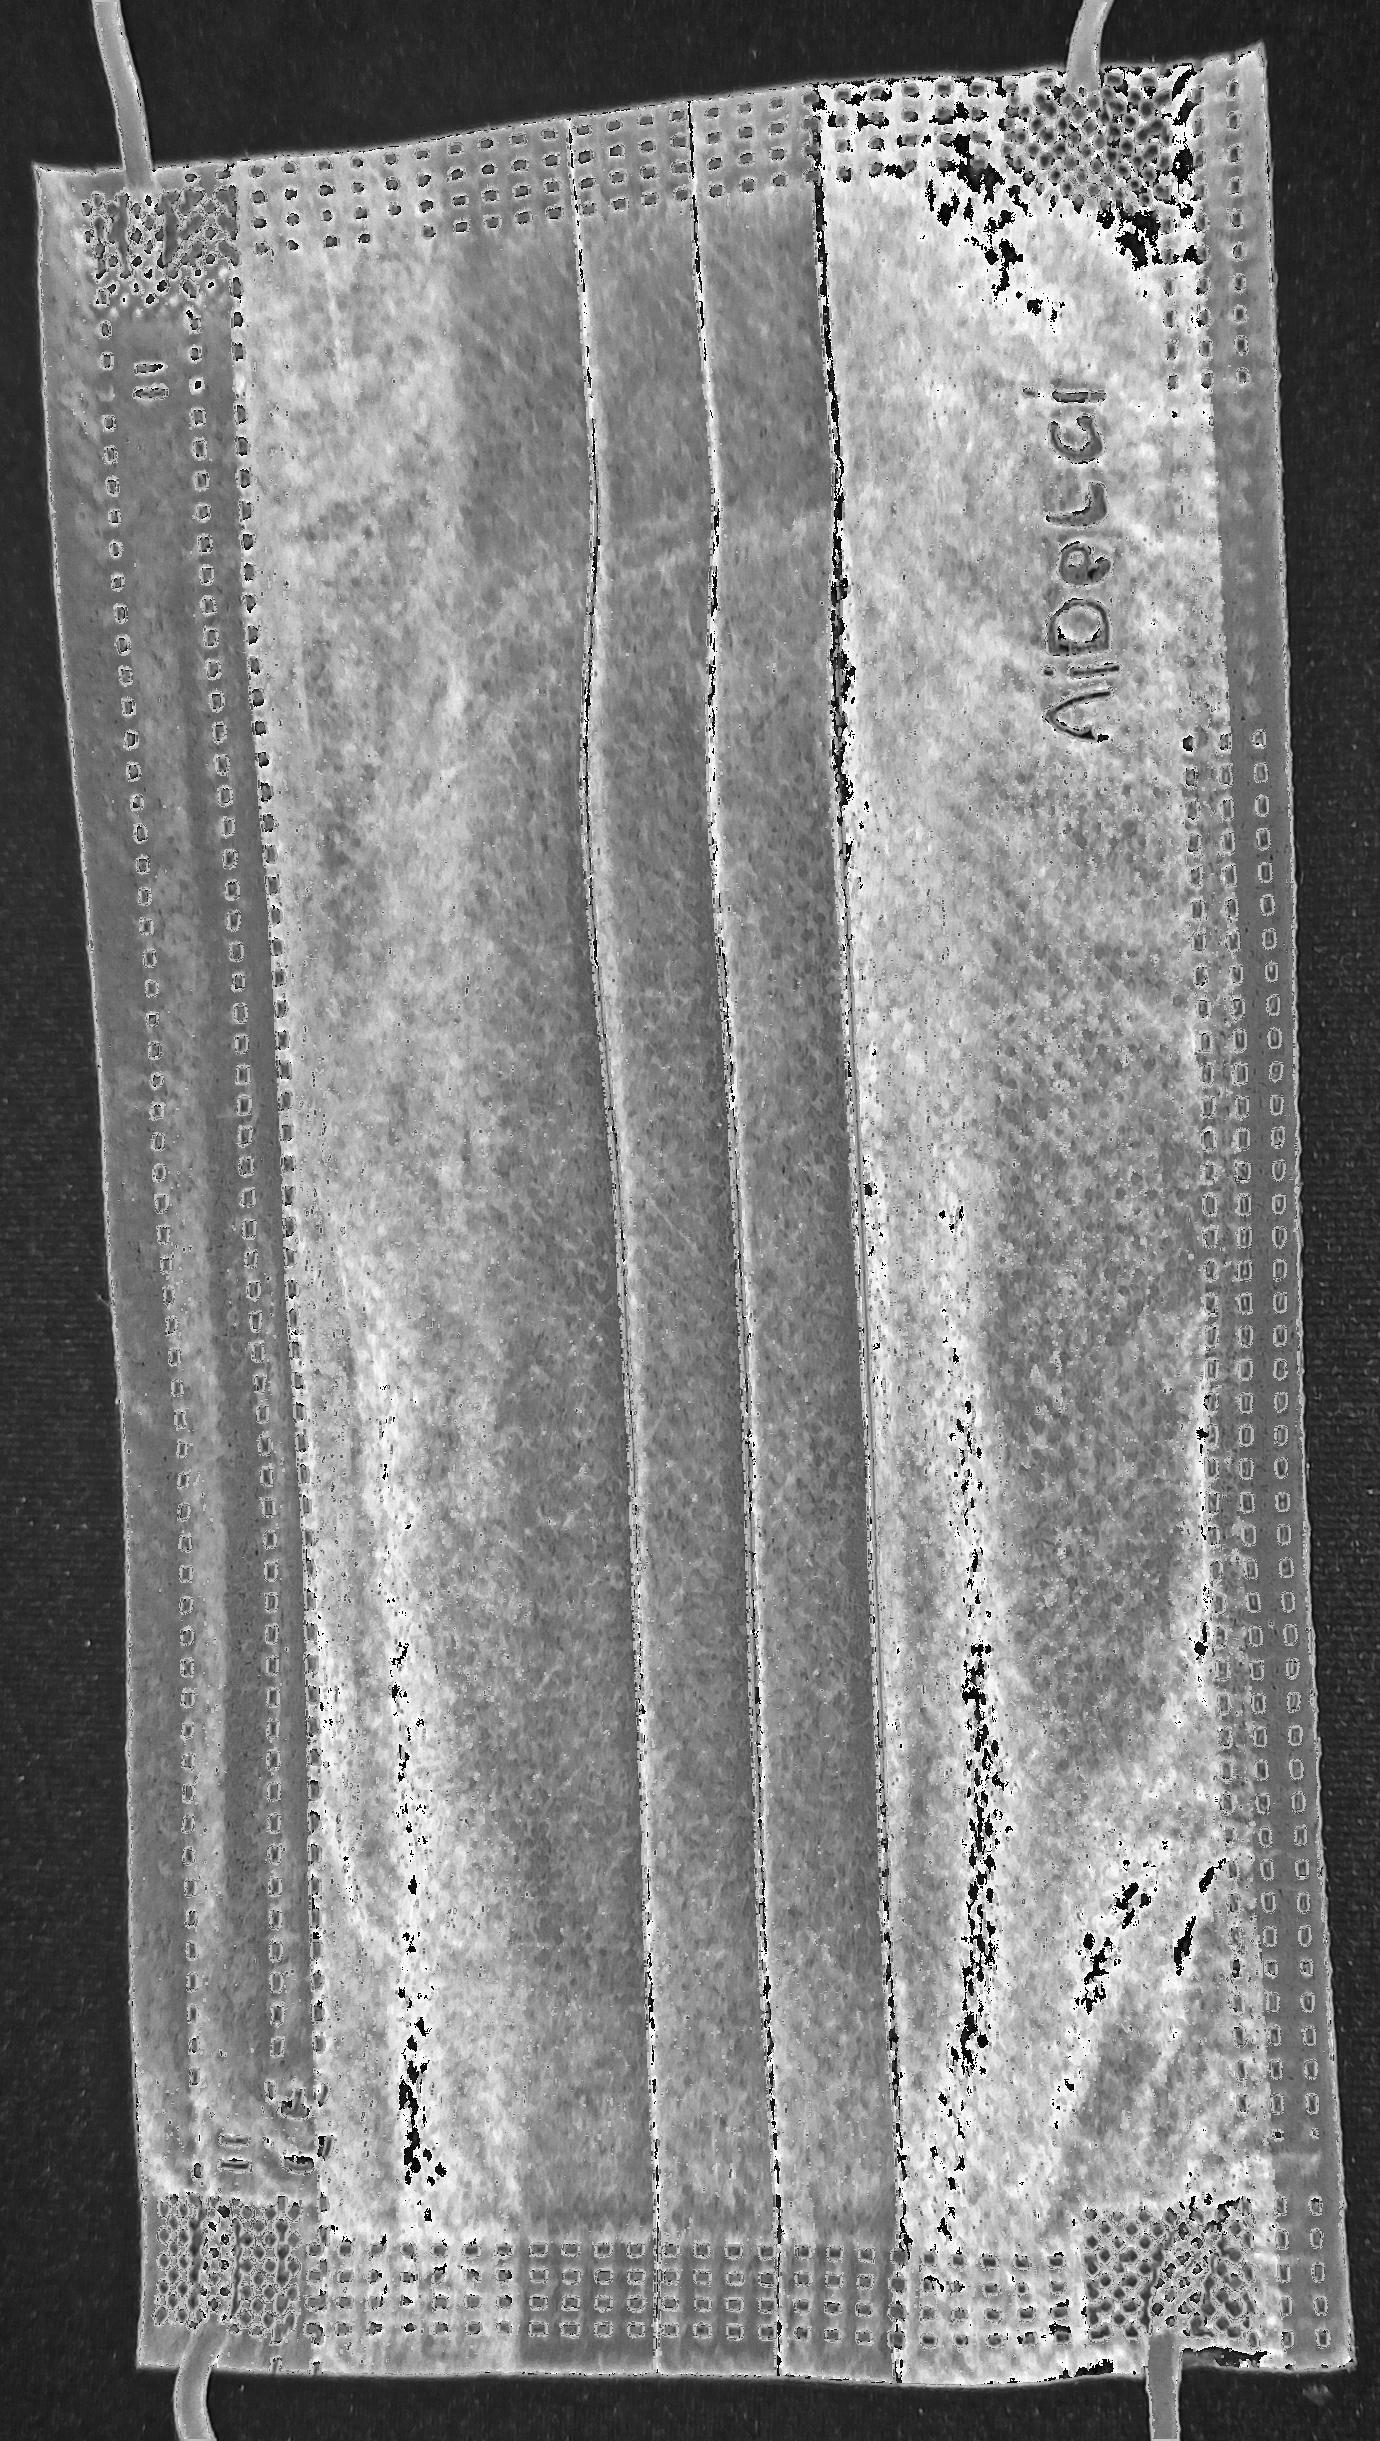Low GSM: (287, 320, 1184, 2134)
